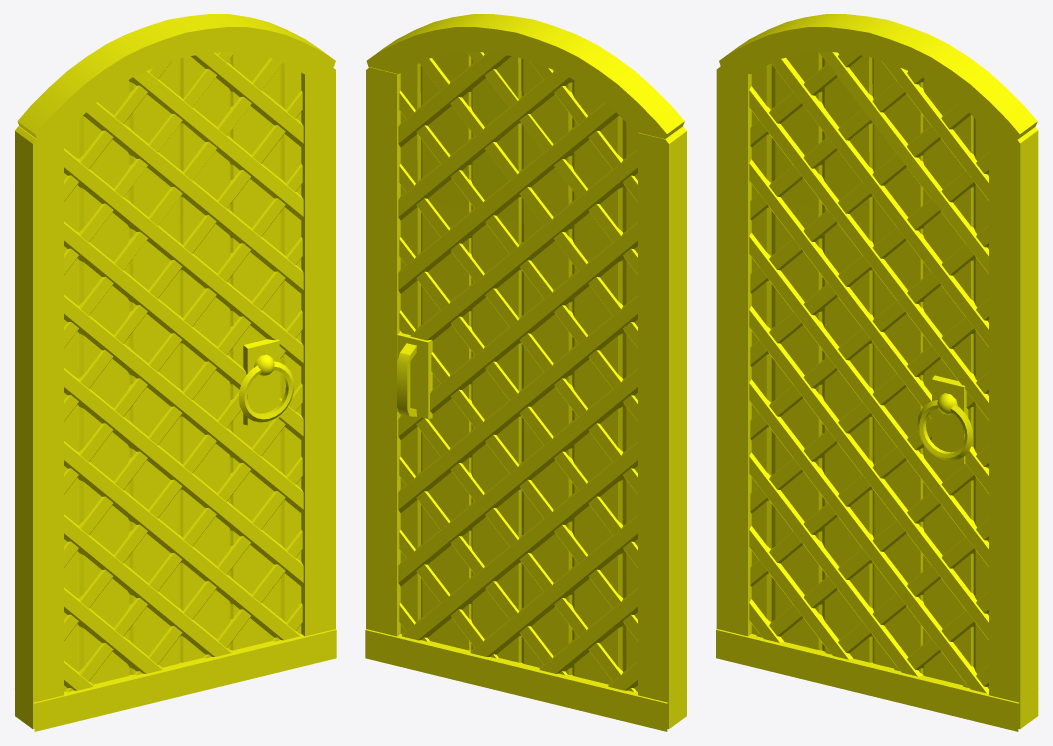
File: door-4-round.glb
3 renders of one model, left to right at view 1: azimuth 30°, elevation 25°; view 2: azimuth 150°, elevation 25°; view 3: azimuth 330°, elevation 25°, orthographic.
Visible parts, largest first — view 1: Door_4_Round; view 2: Door_4_Round; view 3: Door_4_Round.
Part boxes in pixels (x1,y1,x2,y2): Door_4_Round: (14, 14, 336, 731); Door_4_Round: (365, 14, 687, 731); Door_4_Round: (716, 14, 1038, 731).
Size of the model in its own units: 1.11 by 2.32 by 0.2093.
2 materials, 2 textured.
